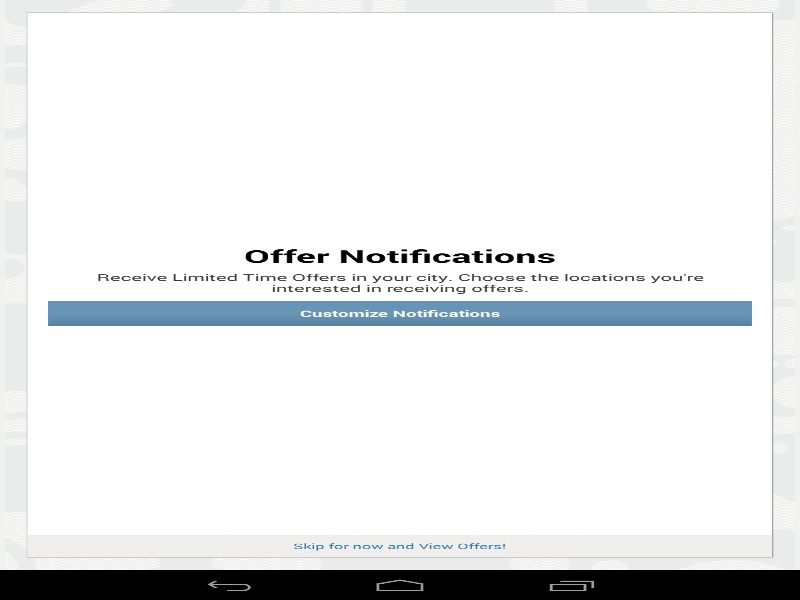Button: (48, 300, 752, 325), (54, 103, 745, 128), (279, 164, 520, 186), (293, 535, 505, 556)
Input: (54, 75, 745, 100)
